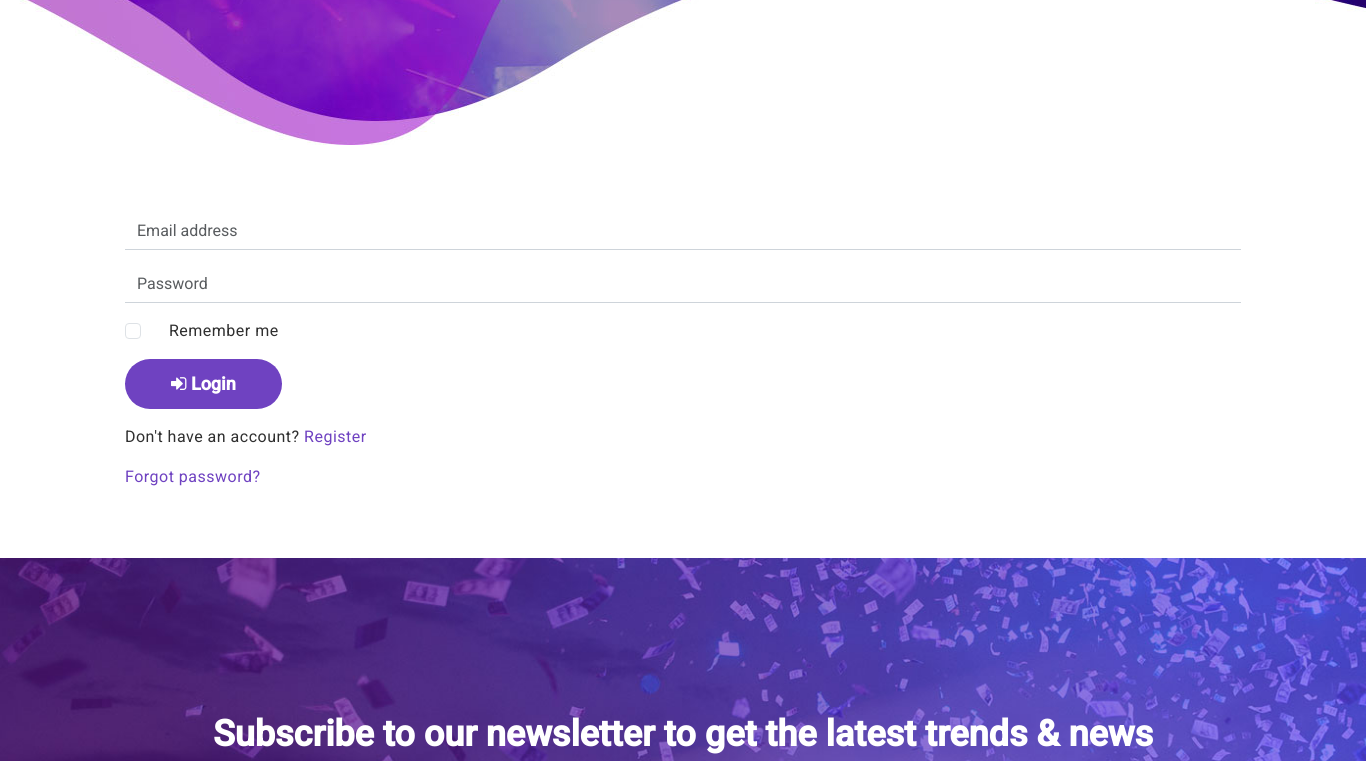
Scenario: Login › should show validation errors for empty fields
(page scrolled)
Click the submit button: (204, 384) x1=125 y1=359 x2=282 y2=409
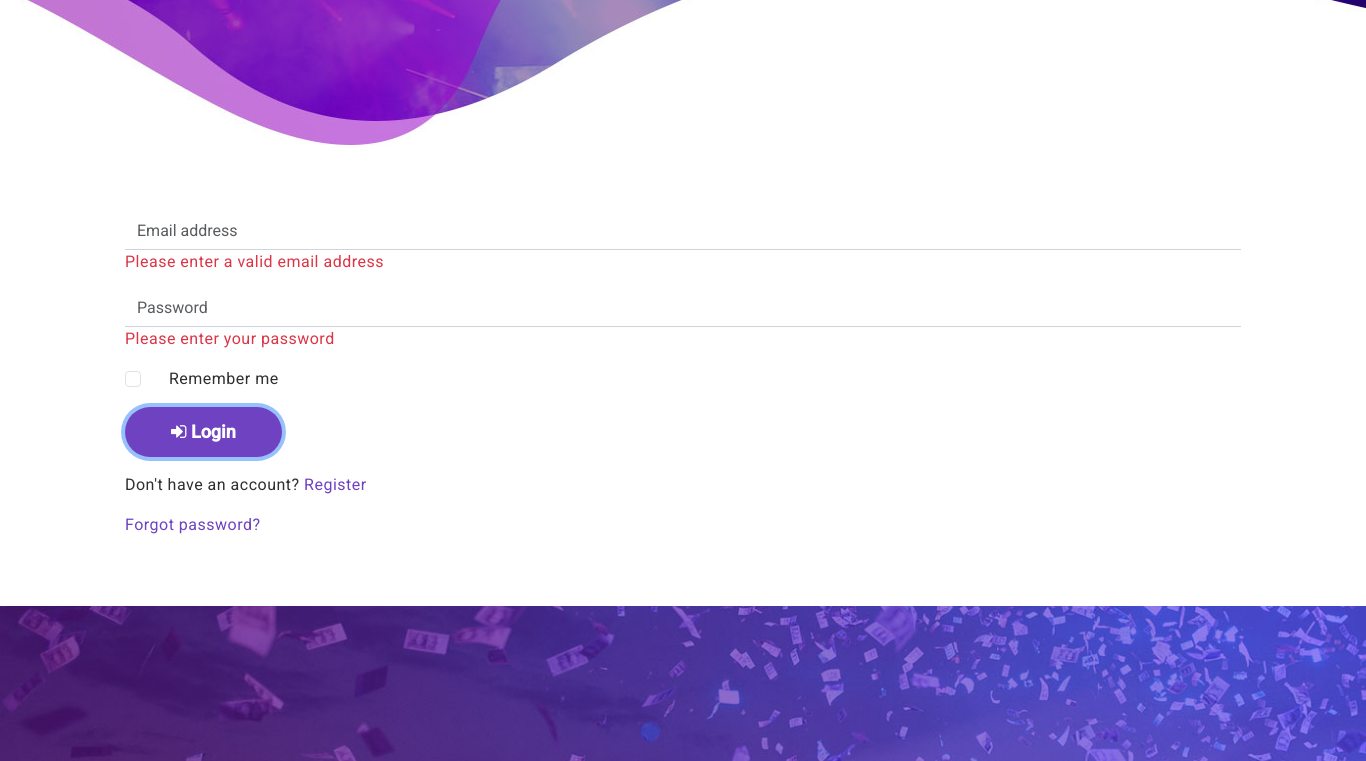
Result: the text "Please enter a valid email address" is shown at x1=125 y1=252 x2=384 y2=271
Result: the text "Please enter your password" is shown at x1=125 y1=329 x2=335 y2=348
